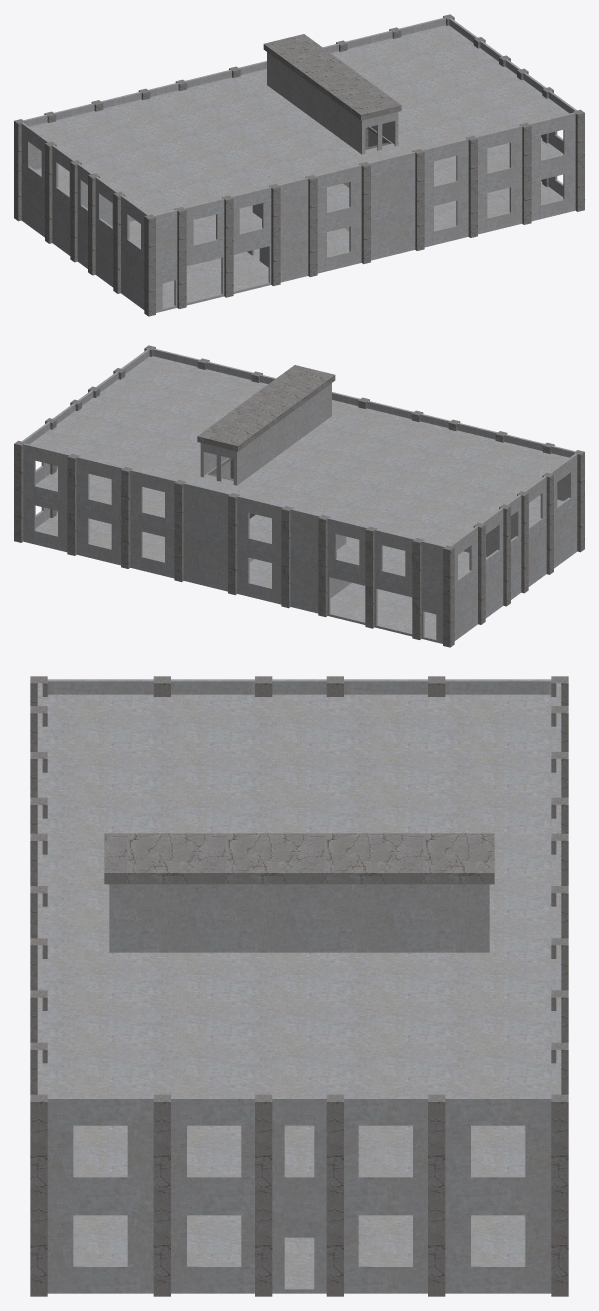
Rendered from industrial.glb.
3 views of the same model, one above another, from view 1: azimuth 30°, elevation 25°; view 2: azimuth 150°, elevation 25°; view 3: azimuth 270°, elevation 25° (orthographic). The views are drawn at different scales.
Parts seen in each view (by area): view 1: IndusrtyBuilding1, IndustryBuilding1D; view 2: IndusrtyBuilding1, IndustryBuilding1D; view 3: IndusrtyBuilding1.
Boxes of the visible parts, x1=… form: IndusrtyBuilding1: x1=14, y1=14, x2=584, y2=316; IndustryBuilding1D: x1=14, y1=40, x2=577, y2=316; IndusrtyBuilding1: x1=14, y1=345, x2=584, y2=647; IndustryBuilding1D: x1=14, y1=347, x2=584, y2=647; IndusrtyBuilding1: x1=30, y1=676, x2=568, y2=1296.
Bounding box in the file's own units: 6 × 1.73 × 3.21.
Materials: 5 (5 with a texture image).
